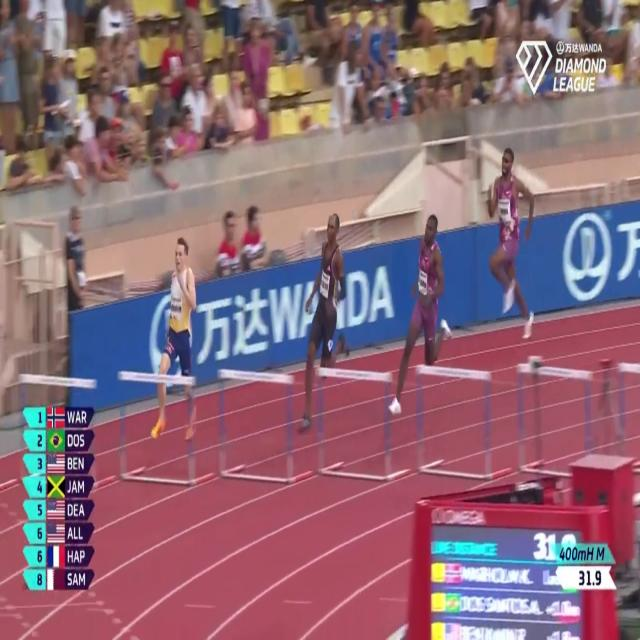athlete: (296, 206, 352, 444), (393, 205, 452, 428), (481, 136, 538, 343), (151, 224, 197, 460)
hurdle: (19, 367, 103, 518), (116, 361, 200, 495), (213, 358, 297, 490), (515, 357, 598, 487), (414, 358, 494, 490), (315, 363, 397, 482)
